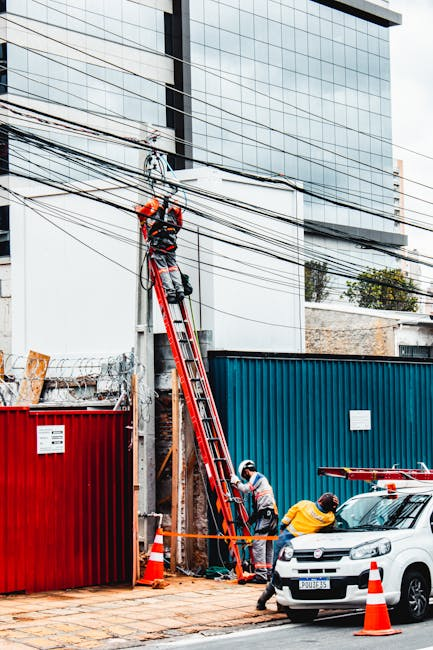traffic_cone: (352, 561, 403, 637), (136, 527, 170, 587)
